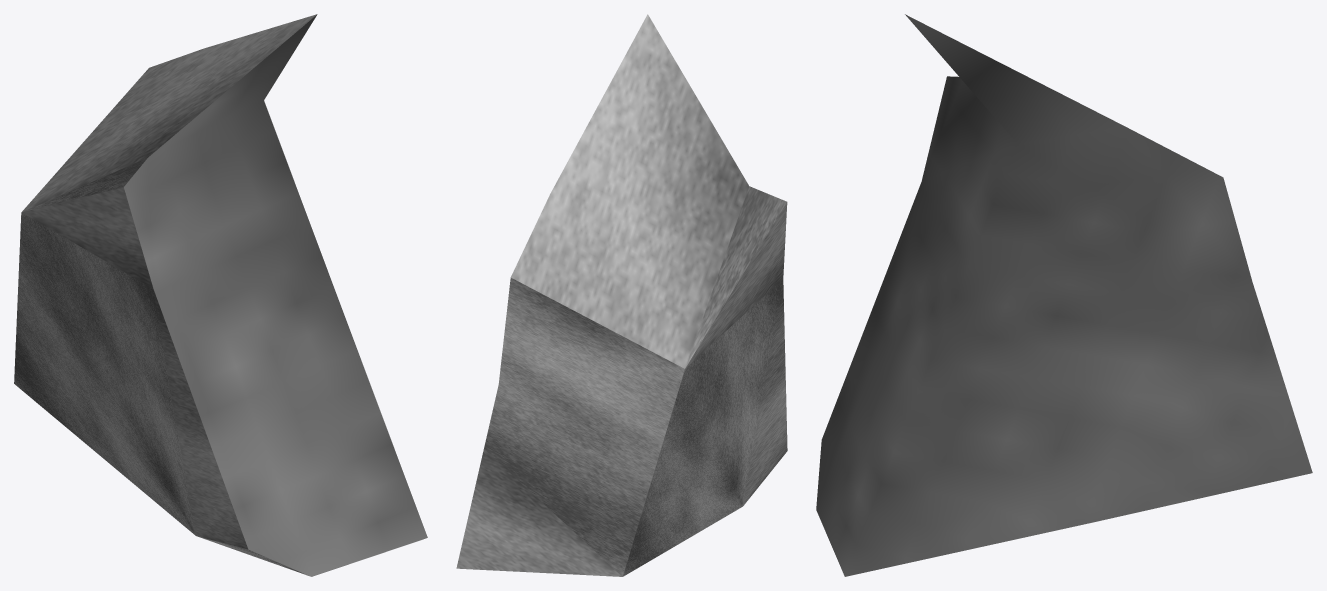
Rendered from leg_2_cell_019.fbx.
3 renders of one model, left to right at view 1: azimuth 30°, elevation 25°; view 2: azimuth 150°, elevation 25°; view 3: azimuth 270°, elevation 25°, orthographic. The views are drawn at different scales.
Visible parts, largest first — view 1: leg_2_cell.019; view 2: leg_2_cell.019; view 3: leg_2_cell.019.
Boxes of the visible parts, x1,y1,x2,y2 form: leg_2_cell.019: [14, 14, 427, 576]; leg_2_cell.019: [456, 14, 787, 576]; leg_2_cell.019: [816, 14, 1312, 576].
Size of the model in its own units: 5.22 by 10.28 by 8.84.
